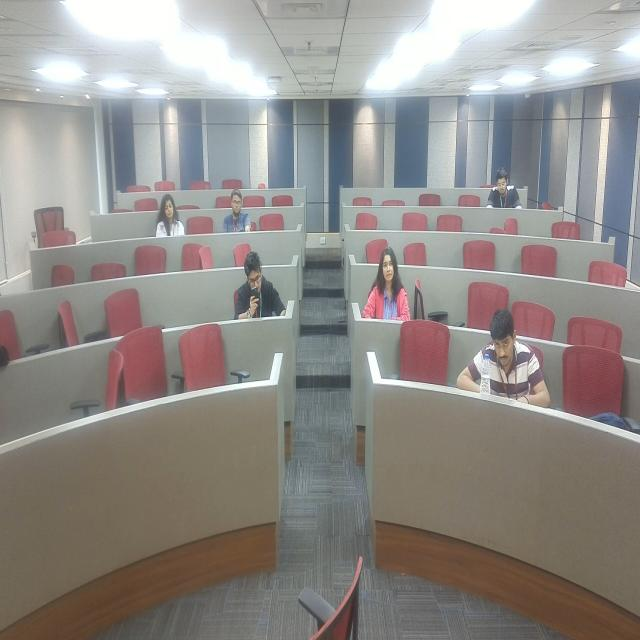cheating: (225, 248, 286, 325)
non-cheating: (467, 307, 545, 423), (358, 248, 416, 330)
